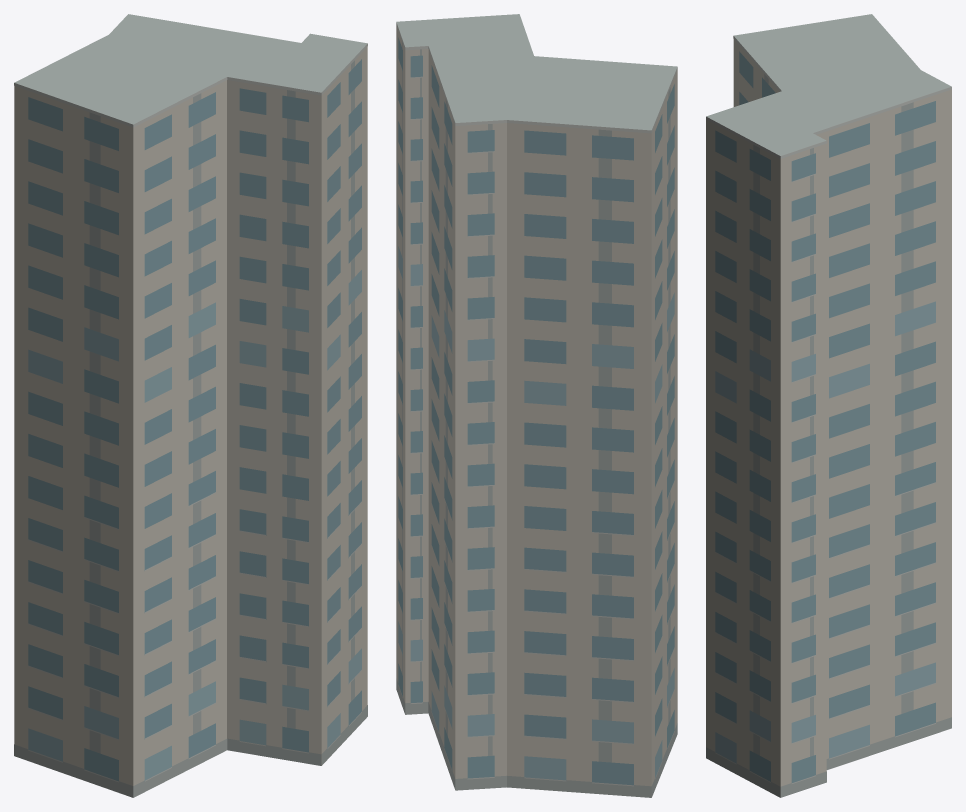
Rendered from residential-9053a8fc-60e0-4133-b205-4d8af7e5f9a7.glb.
The picture shows the model from 3 angles, left to right: view 1: azimuth 30°, elevation 25°; view 2: azimuth 150°, elevation 25°; view 3: azimuth 270°, elevation 25°; orthographic projection. The views are drawn at different scales.
Parts seen in each view (by area): view 1: residential-9053a8fc-60e0-4133-b205-4d8af7e5f9a7.tmp; view 2: residential-9053a8fc-60e0-4133-b205-4d8af7e5f9a7.tmp; view 3: residential-9053a8fc-60e0-4133-b205-4d8af7e5f9a7.tmp.
Part boxes in pixels (x1,y1,x2,y2): residential-9053a8fc-60e0-4133-b205-4d8af7e5f9a7.tmp: [14, 14, 367, 797]; residential-9053a8fc-60e0-4133-b205-4d8af7e5f9a7.tmp: [396, 14, 677, 797]; residential-9053a8fc-60e0-4133-b205-4d8af7e5f9a7.tmp: [706, 14, 951, 797].
Size of the model in its own units: 25.66 by 54 by 18.76.
